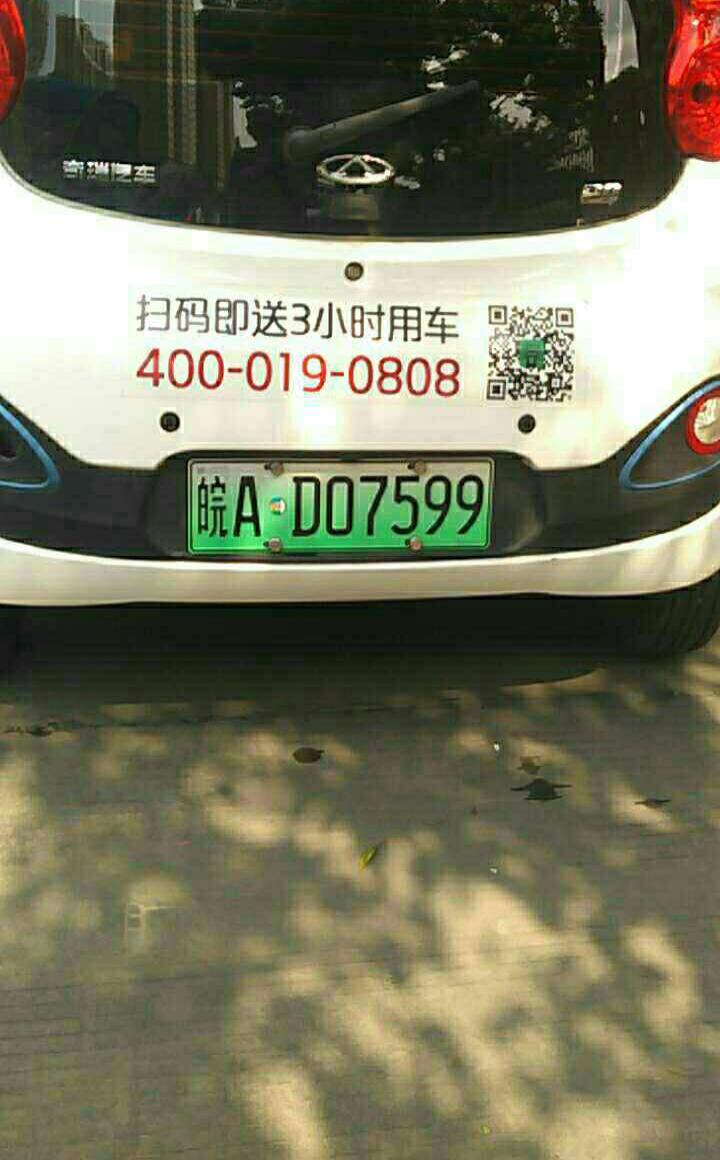car_id: (191, 458, 488, 548)
